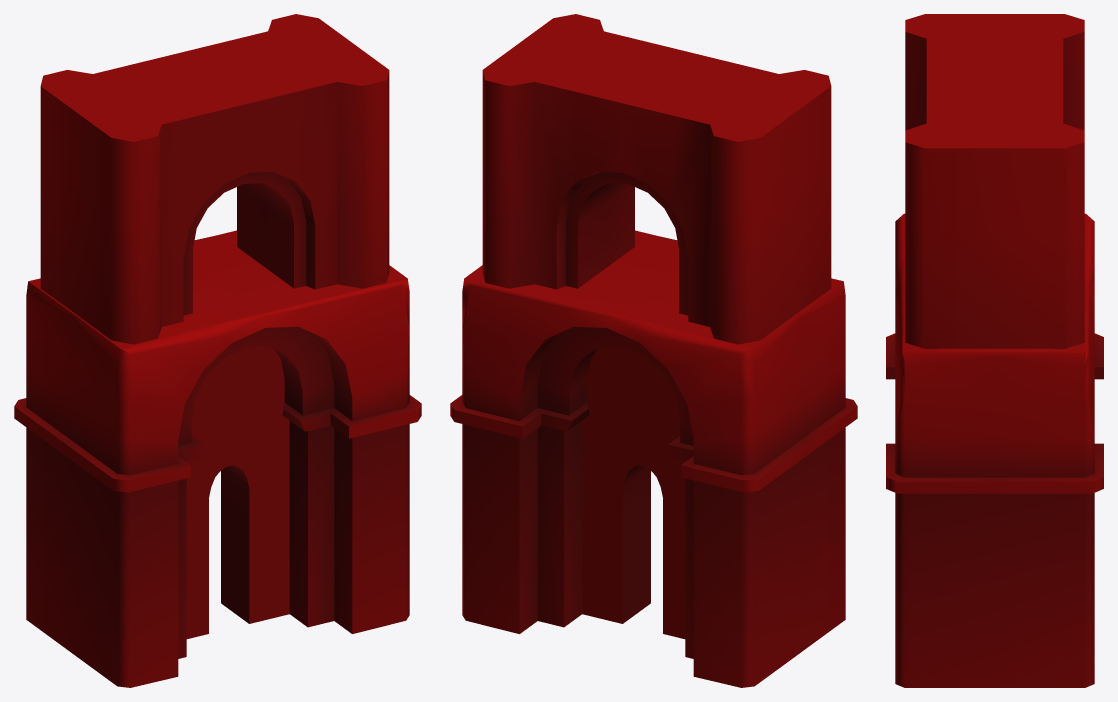
Rendered from buildings-ruins-cathedralruins_v12.fbx.
3 views of the same model, side by side, from view 1: azimuth 30°, elevation 25°; view 2: azimuth 150°, elevation 25°; view 3: azimuth 270°, elevation 25° (orthographic).
Parts seen in each view (by area): view 1: CathedralRuins_v12; view 2: CathedralRuins_v12; view 3: CathedralRuins_v12.
Boxes of the visible parts, x1=… form: CathedralRuins_v12: x1=14, y1=14, x2=421, y2=687; CathedralRuins_v12: x1=450, y1=14, x2=857, y2=687; CathedralRuins_v12: x1=886, y1=14, x2=1103, y2=687.
Size of the model in its own units: 10.2 by 17.08 by 6.3.
